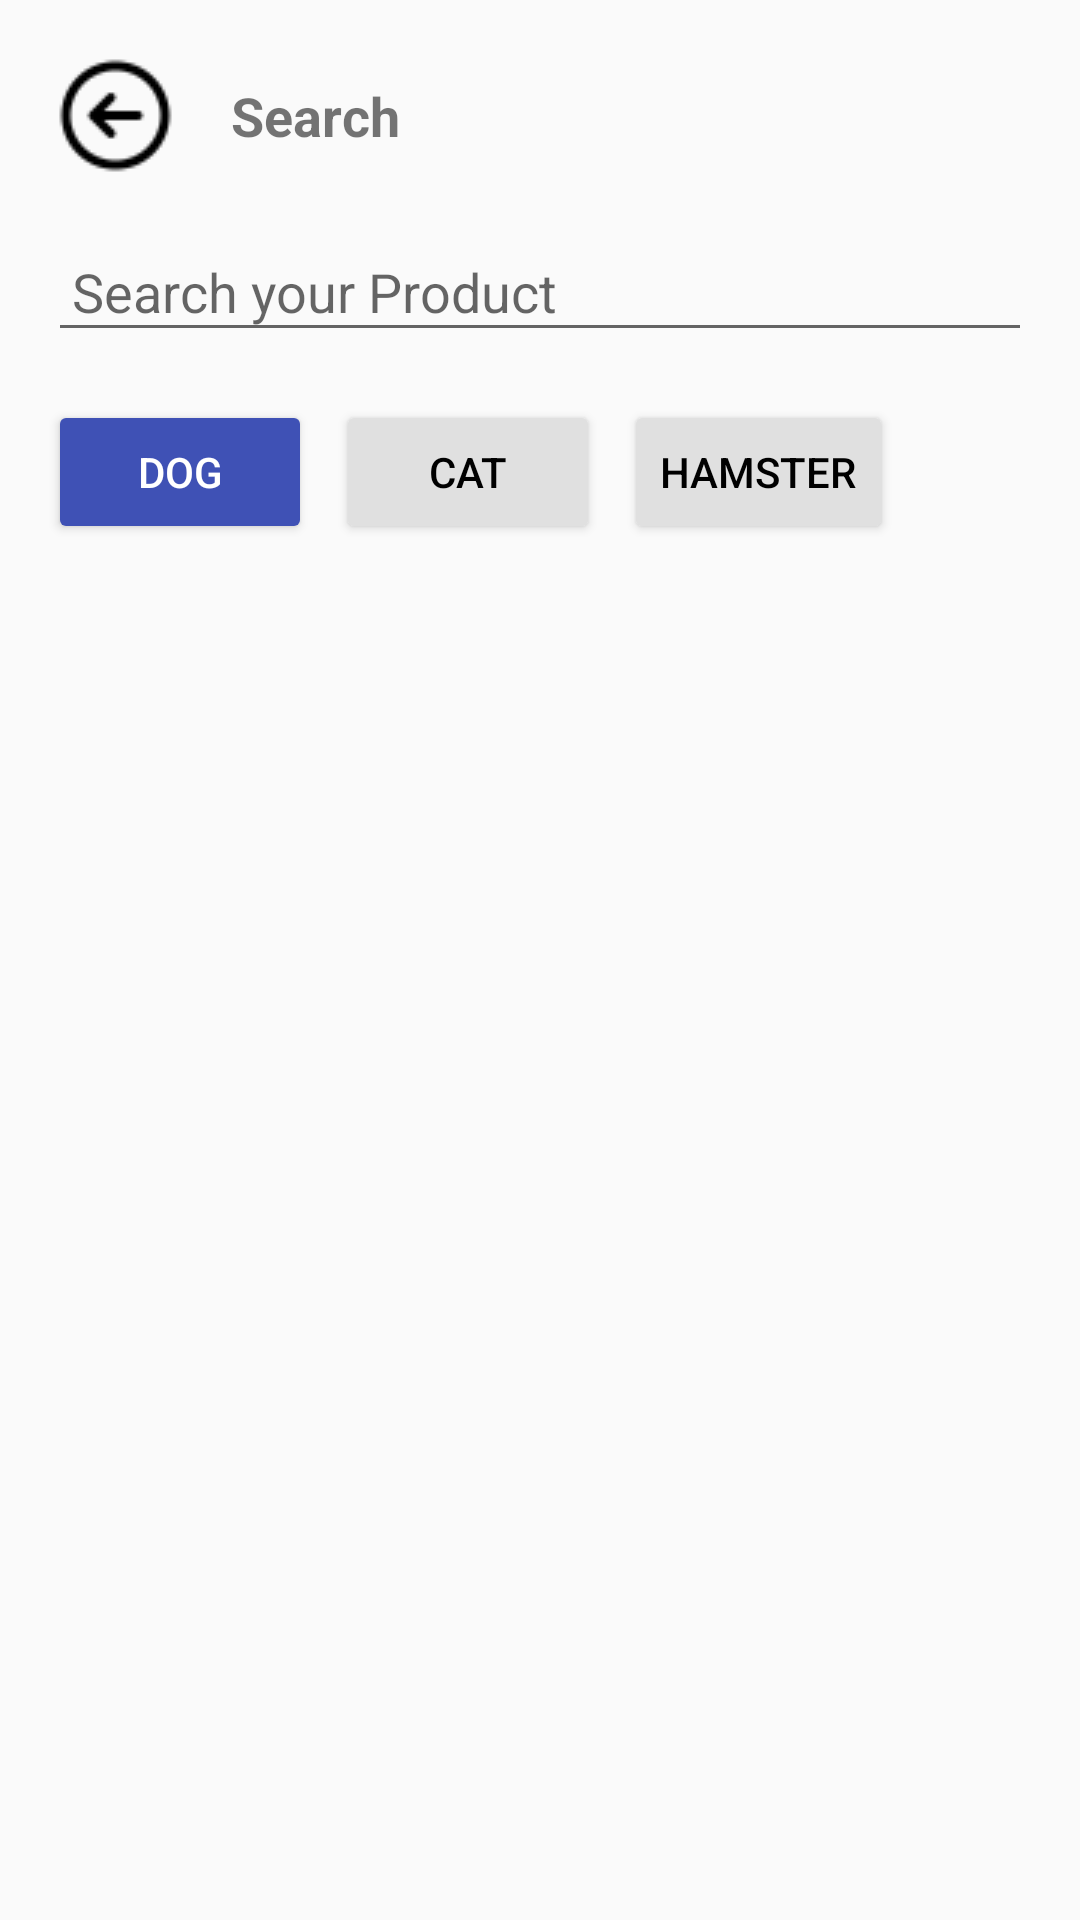

Screen size 1080 x 1920. Icon name, then its box in pixels as (x1, y1, x2, y2):
Back: (59, 59, 172, 172)
